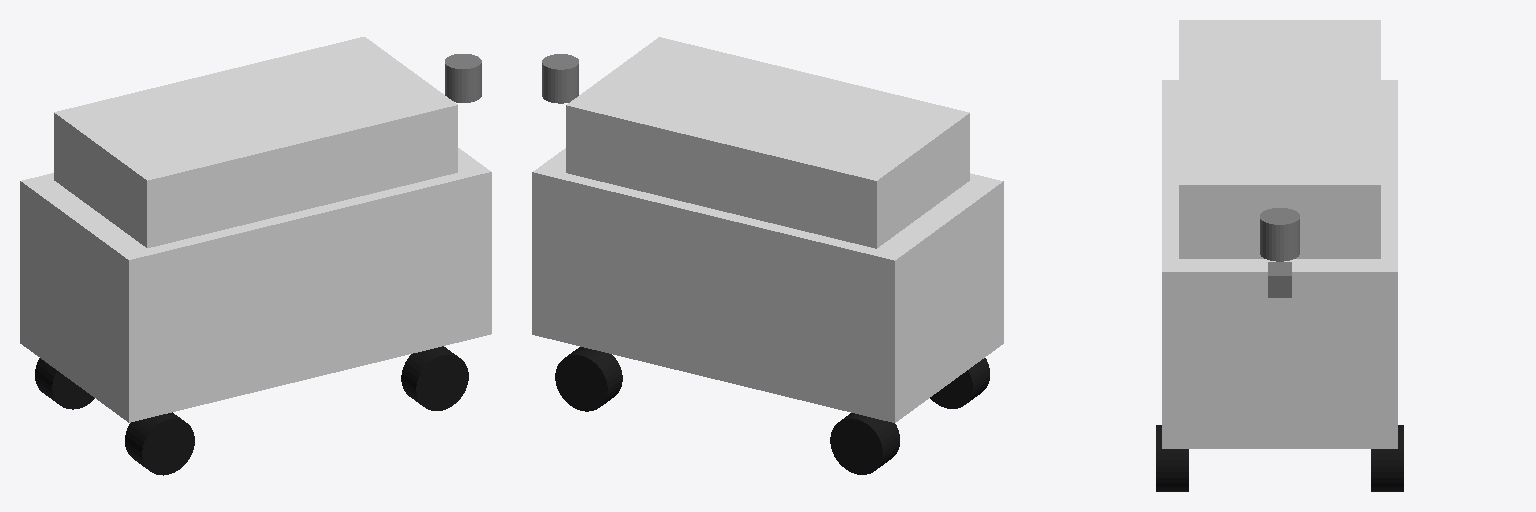
The robot description file, URDF, robot "R1_rviz":
<?xml version="1.0" encoding="utf-8"?>
<robot name="R1_rviz">
  <material name="frame_white">
    <color rgba="0.92 0.92 0.92 1.0" />
  </material>
  <material name="wheel_black">
    <color rgba="0.15 0.15 0.15 1.0" />
  </material>
  <material name="sensor_gray">
    <color rgba="0.55 0.55 0.55 1.0" />
  </material>

  <link name="base_footprint" />

  <joint name="base_footprint_joint" type="fixed">
    <origin xyz="0 0 0.04075" rpy="0 0 0" />
    <parent link="base_footprint" />
    <child link="base_link" />
  </joint>

  <link name="base_link">
    <visual>
      <origin xyz="0.02 0 0.17" rpy="0 0 0" />
      <geometry>
        <box size="0.56 0.29 0.24" />
      </geometry>
      <material name="frame_white" />
    </visual>
    <visual>
      <origin xyz="0.02 0 0.34" rpy="0 0 0" />
      <geometry>
        <box size="0.48 0.25 0.10" />
      </geometry>
      <material name="frame_white" />
    </visual>
  </link>

  <link name="front_left_steering_link" />

  <link name="front_right_steering_link" />

  <link name="Empty_Link1">
    <visual>
      <origin xyz="0 0 0" rpy="1.57079632679 0 0" />
      <geometry>
        <cylinder radius="0.04075" length="0.040" />
      </geometry>
      <material name="wheel_black" />
    </visual>
  </link>

  <joint name="front_left_steering_joint" type="revolute">
    <origin xyz="0.220127909860013 0.132310316479216 0.04075" rpy="0 0 0" />
    <parent link="base_link" />
    <child link="front_left_steering_link" />
    <axis xyz="0 0 1" />
    <limit lower="-0.6" upper="0.6" effort="30" velocity="4" />
  </joint>

  <joint name="front_left_wheel_joint" type="continuous">
    <origin xyz="0 0 -0.04075" rpy="0 0 0" />
    <parent link="front_left_steering_link" />
    <child link="Empty_Link1" />
    <axis xyz="0 1 0" />
  </joint>

  <link name="Empty_Link2">
    <visual>
      <origin xyz="0 0 0" rpy="1.57079632679 0 0" />
      <geometry>
        <cylinder radius="0.04075" length="0.040" />
      </geometry>
      <material name="wheel_black" />
    </visual>
  </link>

  <joint name="front_right_steering_joint" type="revolute">
    <origin xyz="0.220127909860013 -0.132310316479216 0.04075" rpy="0 0 0" />
    <parent link="base_link" />
    <child link="front_right_steering_link" />
    <axis xyz="0 0 1" />
    <limit lower="-0.6" upper="0.6" effort="30" velocity="4" />
  </joint>

  <joint name="front_right_wheel_joint" type="continuous">
    <origin xyz="0 0 -0.04075" rpy="0 0 0" />
    <parent link="front_right_steering_link" />
    <child link="Empty_Link2" />
    <axis xyz="0 -1 0" />
  </joint>

  <link name="Empty_Link3">
    <visual>
      <origin xyz="0 -0.0010 0" rpy="1.57079632679 0 0" />
      <geometry>
        <cylinder radius="0.04075" length="0.0465" />
      </geometry>
      <material name="wheel_black" />
    </visual>
  </link>

  <joint name="rear_right_wheel_joint" type="continuous">
    <origin xyz="-0.19879978611665 -0.120910316479219 0.0" rpy="0 0 0" />
    <parent link="base_link" />
    <child link="Empty_Link3" />
    <axis xyz="0 -1 0" />
  </joint>

  <link name="Empty_Link4">
    <visual>
      <origin xyz="0 -0.0020 0" rpy="1.57079632679 0 0" />
      <geometry>
        <cylinder radius="0.04075" length="0.0465" />
      </geometry>
      <material name="wheel_black" />
    </visual>
  </link>

  <joint name="rear_left_wheel_joint" type="continuous">
    <origin xyz="-0.19879978611665 0.120910316479219 0.0" rpy="0 0 0" />
    <parent link="base_link" />
    <child link="Empty_Link4" />
    <axis xyz="0 1 0" />
  </joint>

  <link name="imu_link">
    <visual>
      <origin xyz="0 0 0" rpy="0 0 0" />
      <geometry>
        <box size="0.03 0.03 0.015" />
      </geometry>
      <material name="sensor_gray" />
    </visual>
  </link>

  <joint name="imu_joint" type="fixed">
    <origin xyz="0.02 0 0.22" rpy="0 0 0" />
    <parent link="base_link" />
    <child link="imu_link" />
  </joint>

  <link name="laser_link">
    <visual>
      <origin xyz="0 0 0" rpy="0 0 0" />
      <geometry>
        <cylinder radius="0.025" length="0.05" />
      </geometry>
      <material name="sensor_gray" />
    </visual>
  </link>

  <joint name="laser_joint" type="fixed">
    <origin xyz="0.34 0 0.36" rpy="0 0 0" />
    <parent link="base_link" />
    <child link="laser_link" />
  </joint>

  <link name="camera_link">
    <visual>
      <origin xyz="0 0 0" rpy="0 0 0" />
      <geometry>
        <box size="0.04 0.03 0.03" />
      </geometry>
      <material name="sensor_gray" />
    </visual>
  </link>

  <joint name="camera_joint" type="fixed">
    <origin xyz="0.30 0 0.28" rpy="0 0 0" />
    <parent link="base_link" />
    <child link="camera_link" />
  </joint>

  <link name="camera_optical_link" />

  <joint name="camera_optical_joint" type="fixed">
    <origin xyz="0 0 0" rpy="-1.57079632679 0 -1.57079632679" />
    <parent link="camera_link" />
    <child link="camera_optical_link" />
  </joint>
</robot>

--- What the picture shows (computed from the rendered views, not written in the file) ---
The picture shows the robot from 3 angles, left to right: view 1: azimuth 30°, elevation 25°; view 2: azimuth 150°, elevation 25°; view 3: azimuth 270°, elevation 25°; orthographic projection.
Model R1_rviz with 12 links and 11 joints (2 revolute, 4 continuous, 5 fixed), rooted at base_footprint, posed all joints at 0.
Links seen in each view (by area): view 1: base_link, Empty_Link2, Empty_Link3, laser_link, Empty_Link4; view 2: base_link, Empty_Link1, Empty_Link4, laser_link, Empty_Link3; view 3: base_link, laser_link, Empty_Link1, Empty_Link2, camera_link.
Link boxes in pixels (x1,y1,x2,y2): base_link: (20, 37, 491, 422); Empty_Link2: (401, 346, 468, 410); Empty_Link3: (125, 412, 194, 475); laser_link: (445, 54, 481, 102); Empty_Link4: (35, 358, 94, 409); base_link: (532, 37, 1003, 422); Empty_Link1: (555, 347, 622, 411); Empty_Link4: (830, 413, 899, 474); laser_link: (542, 54, 578, 103); Empty_Link3: (930, 358, 989, 408); base_link: (1162, 20, 1397, 448); laser_link: (1260, 208, 1299, 261); Empty_Link1: (1371, 425, 1403, 491); Empty_Link2: (1156, 425, 1188, 491); camera_link: (1268, 262, 1291, 297).
Size in the robot's own frame: 0.625 by 0.3046 by 0.4308 metres.
Geometry: primitives only (box / cylinder / sphere), no mesh files.
